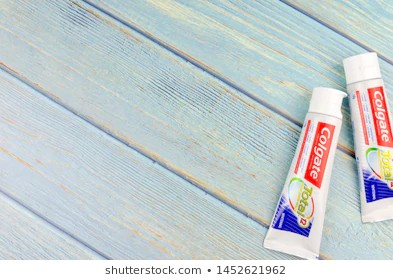colgate-total-150gm: (262, 80, 350, 257), (339, 47, 393, 220)
